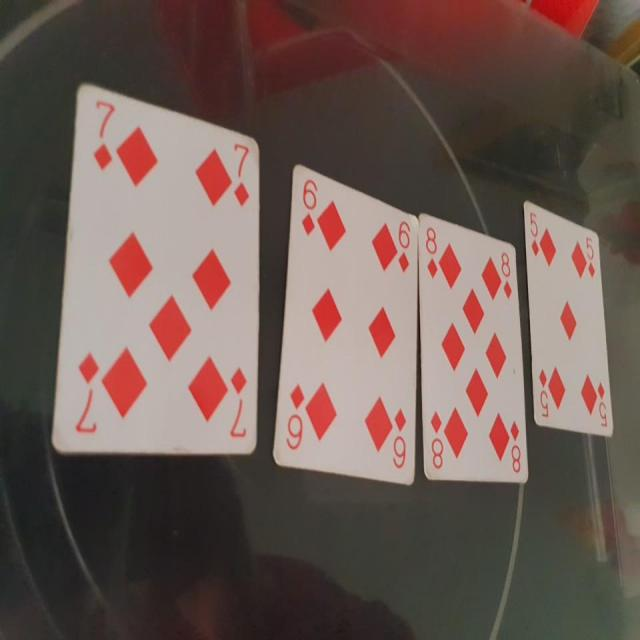5 Diamonds: (522, 202, 614, 437)
6 Diamonds: (270, 158, 419, 483)
7 Diamonds: (49, 82, 261, 453)
8 Diamonds: (419, 210, 532, 483)
